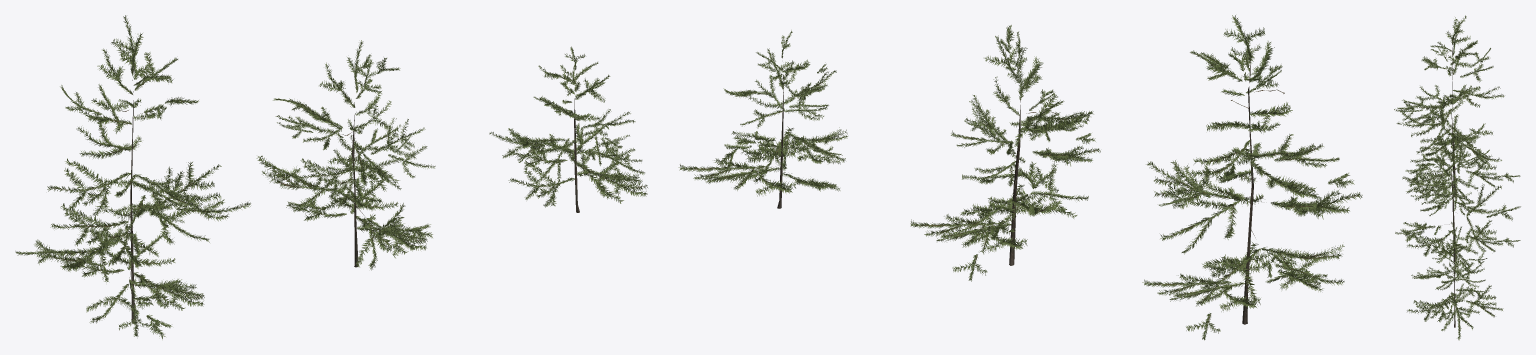
File: env_frost_pine.glb
3 renders of one model, left to right at view 1: azimuth 30°, elevation 25°; view 2: azimuth 150°, elevation 25°; view 3: azimuth 270°, elevation 25°, orthographic. The views are drawn at different scales.
Parts seen in each view (by area): view 1: ENV_Frostheim_Pine; view 2: ENV_Frostheim_Pine; view 3: ENV_Frostheim_Pine.
Part boxes in pixels (left/top/right/bottom): ENV_Frostheim_Pine: left=15, top=15, right=647, bottom=339; ENV_Frostheim_Pine: left=678, top=15, right=1362, bottom=340; ENV_Frostheim_Pine: left=1394, top=15, right=1520, bottom=340.
Size of what is drawn, in the model's own units: 17.29 by 8.2 by 5.21.
2 materials, 2 textured.
